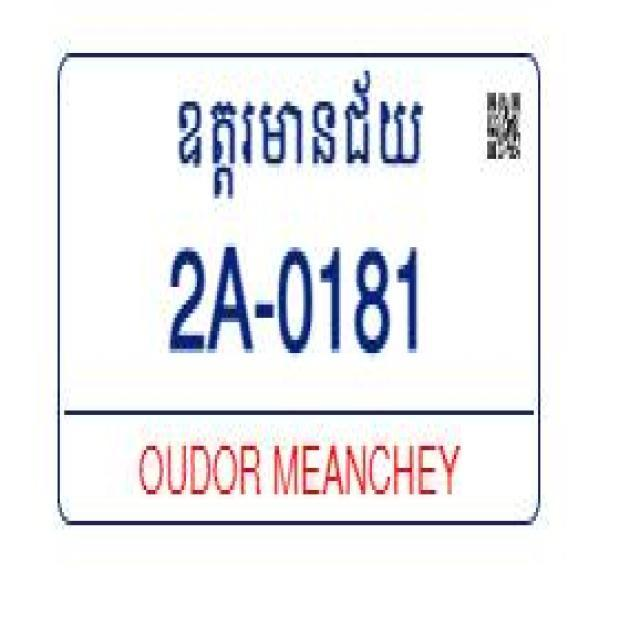Oudor_Meanchey: (177, 62, 423, 209)
